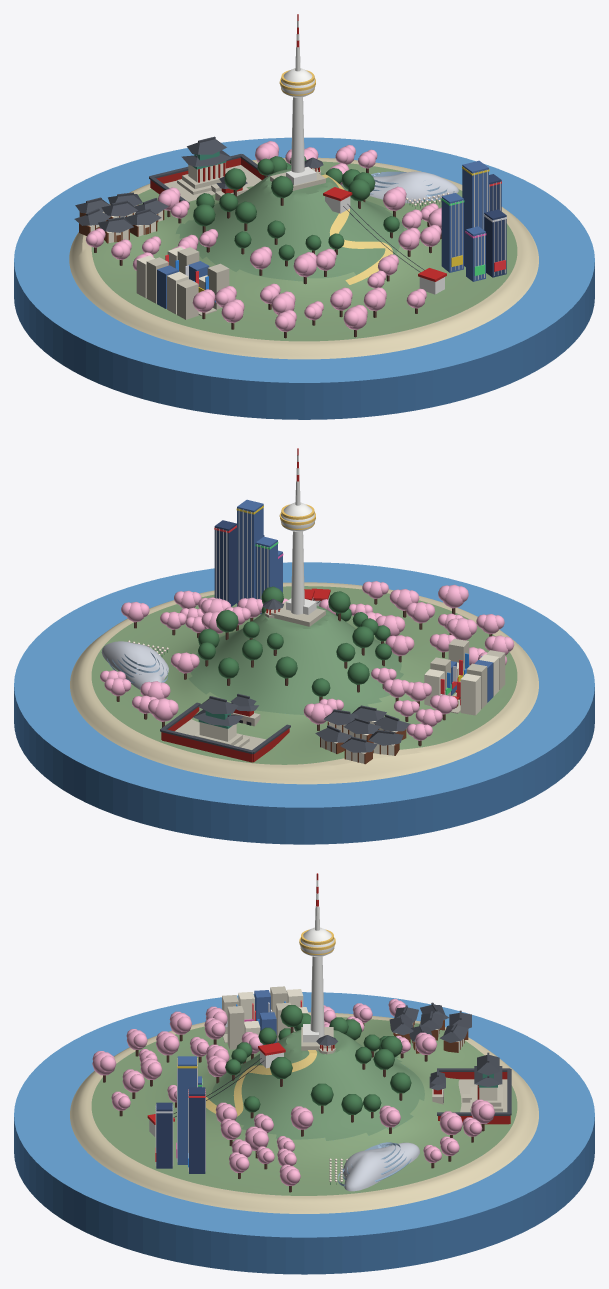
File: seoul.glb
The picture shows the model from 3 angles, top to bottom: view 1: azimuth 30°, elevation 25°; view 2: azimuth 150°, elevation 25°; view 3: azimuth 270°, elevation 25°; orthographic projection.
Visible parts, largest first — view 1: DECO-base, DECO-land, DECO-cherry-blossoms, DECO-namsan-trees, ddp-body, gn-tower-0, gn-tower-2, gn-tower-3, DECO-namsan-path, tower-shaft, gn-tower-4, md-shop--1-0 (+4 smaller); view 2: DECO-base, DECO-land, DECO-cherry-blossoms, DECO-namsan-trees, gn-tower-0, ddp-body, gn-tower-1, gn-tower-2, tower-shaft, md-shop--1-4, gb-wall-0-0.11, tower-observatory (+1 smaller); view 3: DECO-base, DECO-land, DECO-cherry-blossoms, DECO-namsan-trees, ddp-body, gn-tower-0, gn-tower-1, gn-tower-3, tower-shaft, DECO-namsan-path, md-shop-1-0, tower-observatory (+1 smaller).
Boxes of the visible parts, <box> form: DECO-base: <box>14,137,594,419</box>; DECO-land: <box>69,157,538,359</box>; DECO-cherry-blossoms: <box>86,141,441,338</box>; DECO-namsan-trees: <box>193,156,399,266</box>; ddp-body: <box>341,171,458,203</box>; gn-tower-0: <box>462,160,488,266</box>; gn-tower-2: <box>441,193,463,272</box>; gn-tower-3: <box>484,209,506,277</box>; DECO-namsan-path: <box>322,174,392,284</box>; tower-shaft: <box>291,97,304,172</box>; gn-tower-4: <box>466,226,485,281</box>; md-shop--1-0: <box>177,279,198,319</box>; DECO-base: <box>14,562,594,844</box>; DECO-land: <box>70,582,538,784</box>; DECO-cherry-blossoms: <box>100,581,514,746</box>; DECO-namsan-trees: <box>198,586,391,701</box>; gn-tower-0: <box>237,499,263,606</box>; ddp-body: <box>101,641,168,689</box>; gn-tower-1: <box>214,520,236,606</box>; gn-tower-2: <box>255,536,277,614</box>; tower-shaft: <box>291,531,304,614</box>; md-shop--1-4: <box>460,673,480,715</box>; gb-wall-0-0.11: <box>162,732,252,762</box>; tower-observatory: <box>280,502,315,531</box>; DECO-base: <box>14,992,594,1274</box>; DECO-land: <box>70,1012,538,1213</box>; DECO-cherry-blossoms: <box>92,999,494,1192</box>; DECO-namsan-trees: <box>225,1005,411,1122</box>; ddp-body: <box>343,1142,419,1191</box>; gn-tower-0: <box>177,1056,196,1164</box>; gn-tower-1: <box>189,1087,205,1173</box>; gn-tower-3: <box>156,1102,172,1168</box>; tower-shaft: <box>310,956,324,1037</box>; DECO-namsan-path: <box>206,1050,317,1116</box>; md-shop-1-0: <box>227,1006,244,1049</box>; tower-observatory: <box>300,927,334,956</box>.
Size of the model in its own units: 2 by 1.06 by 2.
